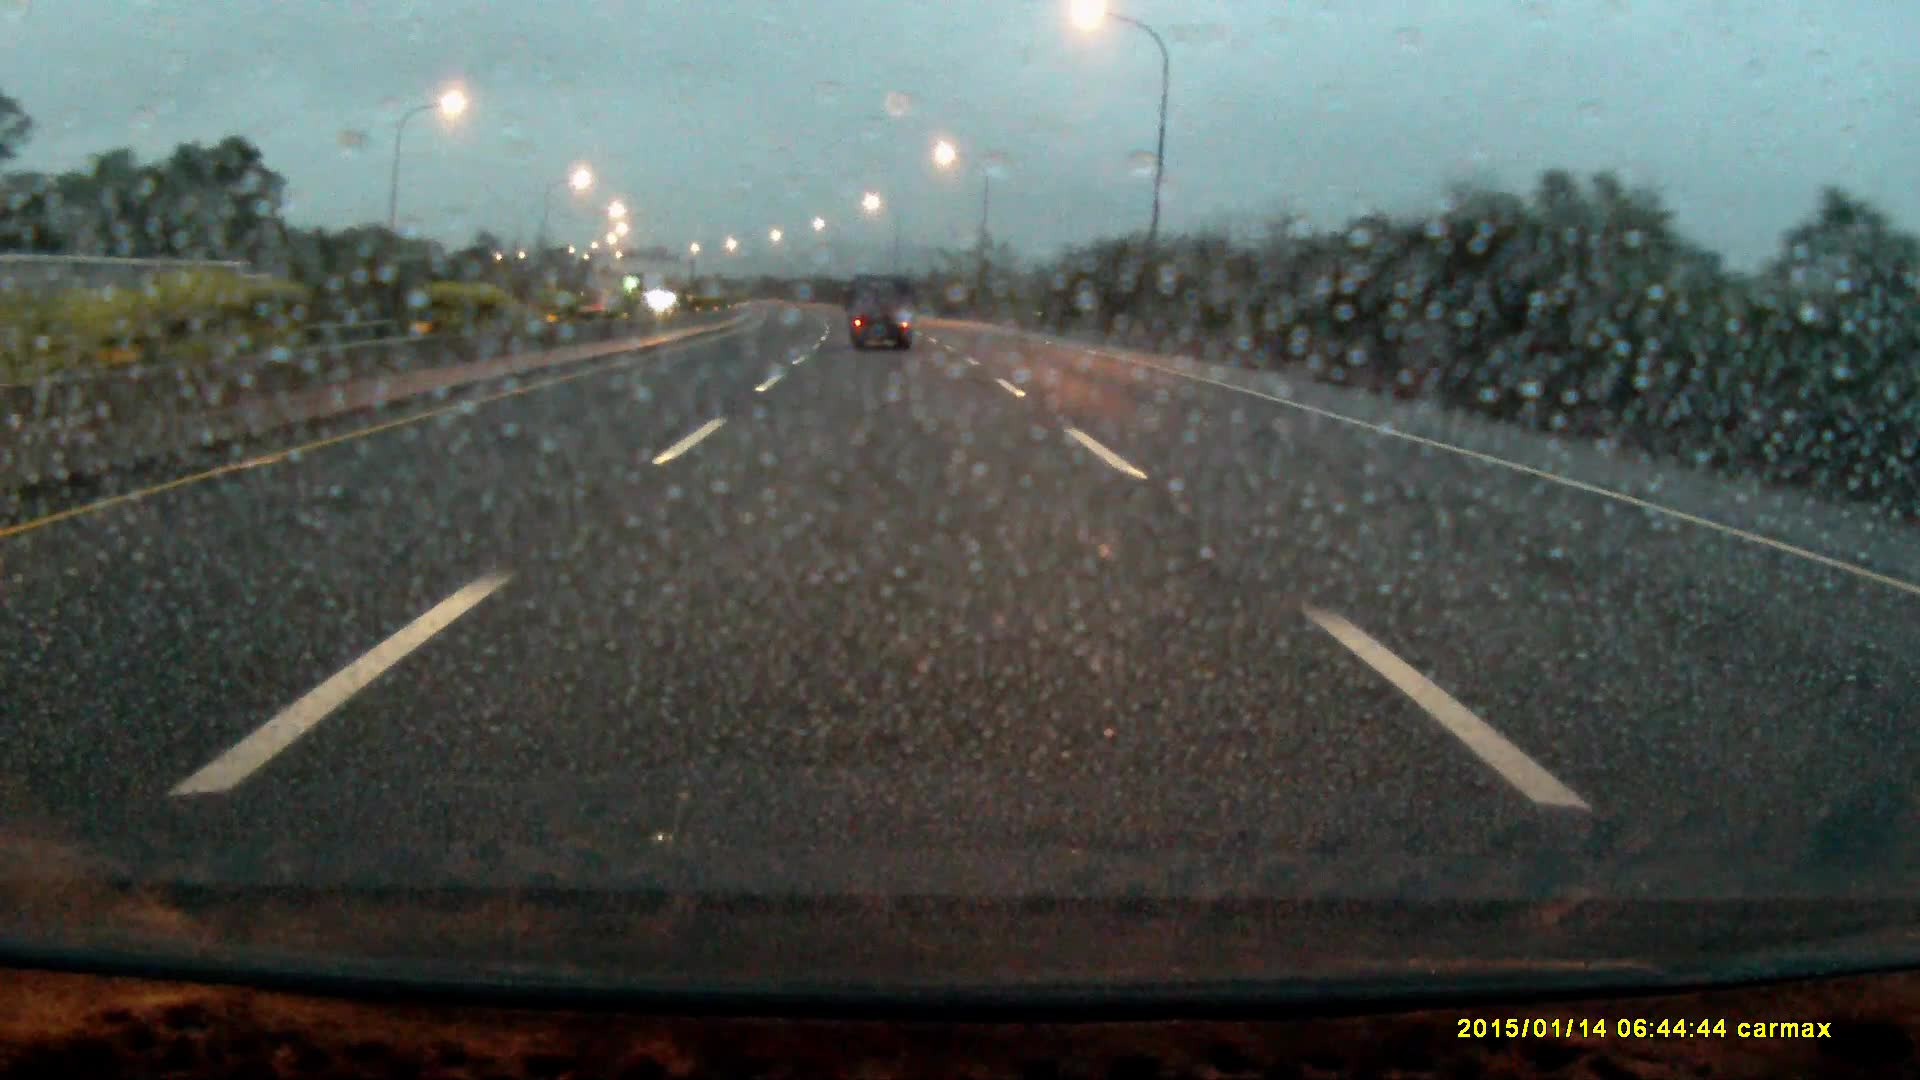vehicle: (847, 272, 916, 353)
